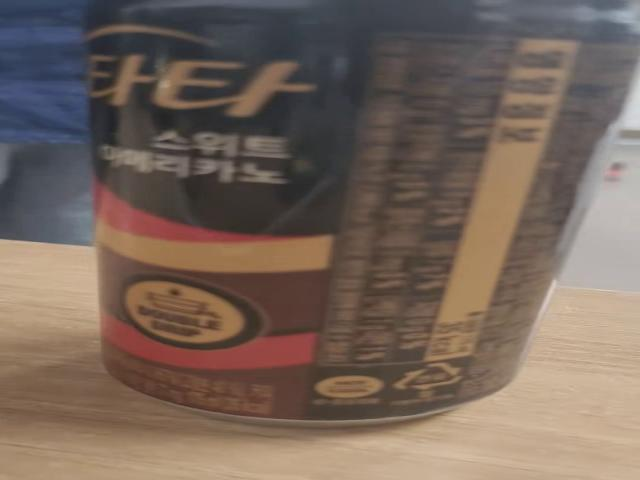Canned_drinks: (78, 8, 620, 432)
